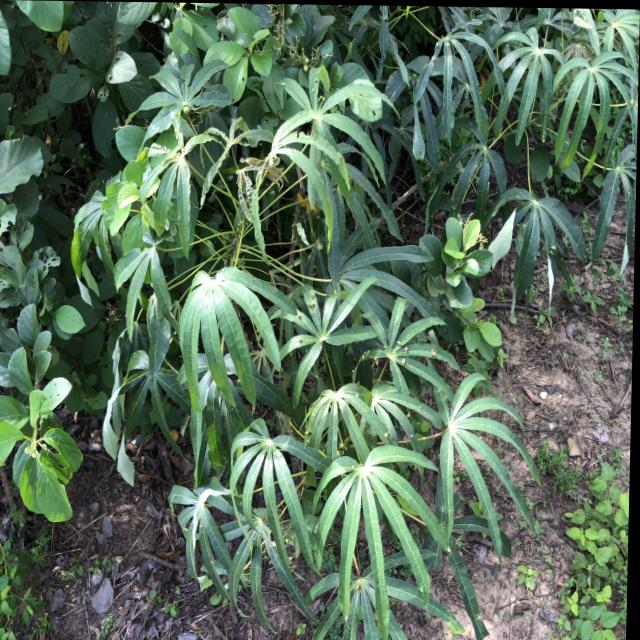Maleza: (0, 128, 83, 535), (159, 0, 348, 68), (422, 209, 499, 305), (456, 274, 503, 363)
Mosca: (393, 326, 410, 375), (424, 339, 445, 367), (371, 423, 397, 444), (301, 286, 320, 309), (290, 336, 309, 352), (326, 283, 342, 297)
